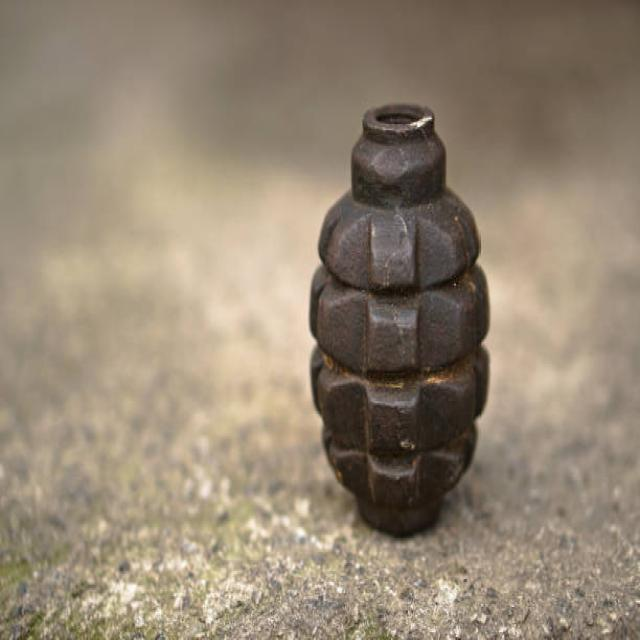grenade: (305, 95, 501, 547)
